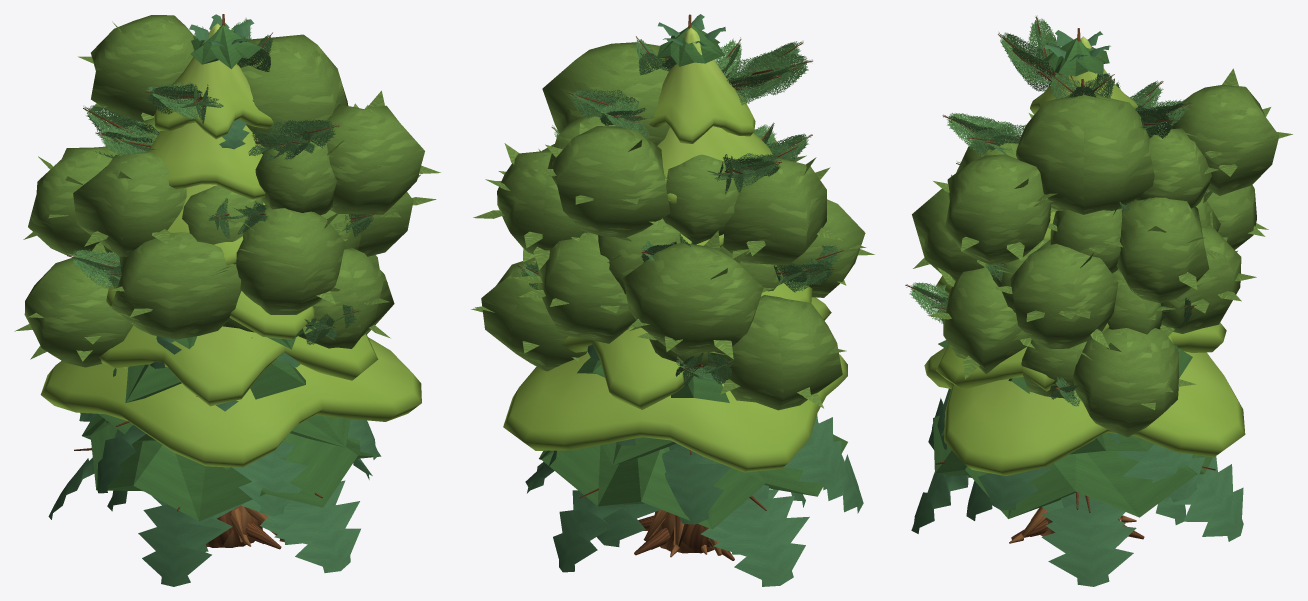
Rendered from TreeStudies.glb.
The picture shows the model from 3 angles, left to right: view 1: azimuth 30°, elevation 25°; view 2: azimuth 150°, elevation 25°; view 3: azimuth 270°, elevation 25°; orthographic projection. The views are drawn at different scales.
Visible parts, largest first — view 1: SM_OldOak_Foliage_LOD0, SM_SoftPine_Foliage_LOD0, SM_FacetedFir_Foliage_LOD0, SM_PaintedFir_Foliage_LOD0, SM_NaturalPine_Foliage_LOD0, SM_SoftPine_Bark_LOD0, SM_OldOak_Bark_LOD0, SM_NaturalPine_Bark_LOD0; view 2: SM_OldOak_Foliage_LOD0, SM_SoftPine_Foliage_LOD0, SM_PaintedFir_Foliage_LOD0, SM_NaturalPine_Foliage_LOD0, SM_FacetedFir_Foliage_LOD0, SM_OldOak_Bark_LOD0, SM_SoftPine_Bark_LOD0, SM_NaturalPine_Bark_LOD0; view 3: SM_OldOak_Foliage_LOD0, SM_SoftPine_Foliage_LOD0, SM_PaintedFir_Foliage_LOD0, SM_FacetedFir_Foliage_LOD0, SM_NaturalPine_Foliage_LOD0, SM_NaturalPine_Bark_LOD0, SM_SoftPine_Bark_LOD0.
Boxes of the visible parts, box(x1,y1,x2,y2) form: SM_OldOak_Foliage_LOD0: box(14, 15, 440, 368); SM_SoftPine_Foliage_LOD0: box(40, 23, 421, 467); SM_FacetedFir_Foliage_LOD0: box(82, 25, 381, 521); SM_PaintedFir_Foliage_LOD0: box(48, 14, 379, 586); SM_NaturalPine_Foliage_LOD0: box(67, 18, 374, 344); SM_SoftPine_Bark_LOD0: box(206, 505, 284, 547); SM_OldOak_Bark_LOD0: box(208, 510, 281, 549); SM_NaturalPine_Bark_LOD0: box(67, 19, 387, 327); SM_OldOak_Foliage_LOD0: box(471, 42, 874, 410); SM_SoftPine_Foliage_LOD0: box(503, 27, 847, 472); SM_PaintedFir_Foliage_LOD0: box(525, 14, 863, 586); SM_NaturalPine_Foliage_LOD0: box(518, 37, 843, 385); SM_FacetedFir_Foliage_LOD0: box(539, 25, 847, 529); SM_OldOak_Bark_LOD0: box(634, 515, 734, 560); SM_SoftPine_Bark_LOD0: box(643, 509, 721, 557); SM_NaturalPine_Bark_LOD0: box(517, 36, 843, 368); SM_OldOak_Foliage_LOD0: box(912, 68, 1292, 437); SM_SoftPine_Foliage_LOD0: box(924, 36, 1245, 475); SM_PaintedFir_Foliage_LOD0: box(911, 30, 1243, 586); SM_FacetedFir_Foliage_LOD0: box(933, 38, 1212, 518); SM_NaturalPine_Foliage_LOD0: box(906, 15, 1209, 406); SM_NaturalPine_Bark_LOD0: box(905, 17, 1194, 388); SM_SoftPine_Bark_LOD0: box(1009, 507, 1136, 543).
Size of what is drawn, in the model's own units: 6.45 by 8.6 by 6.05.
5 materials, 5 textured.
